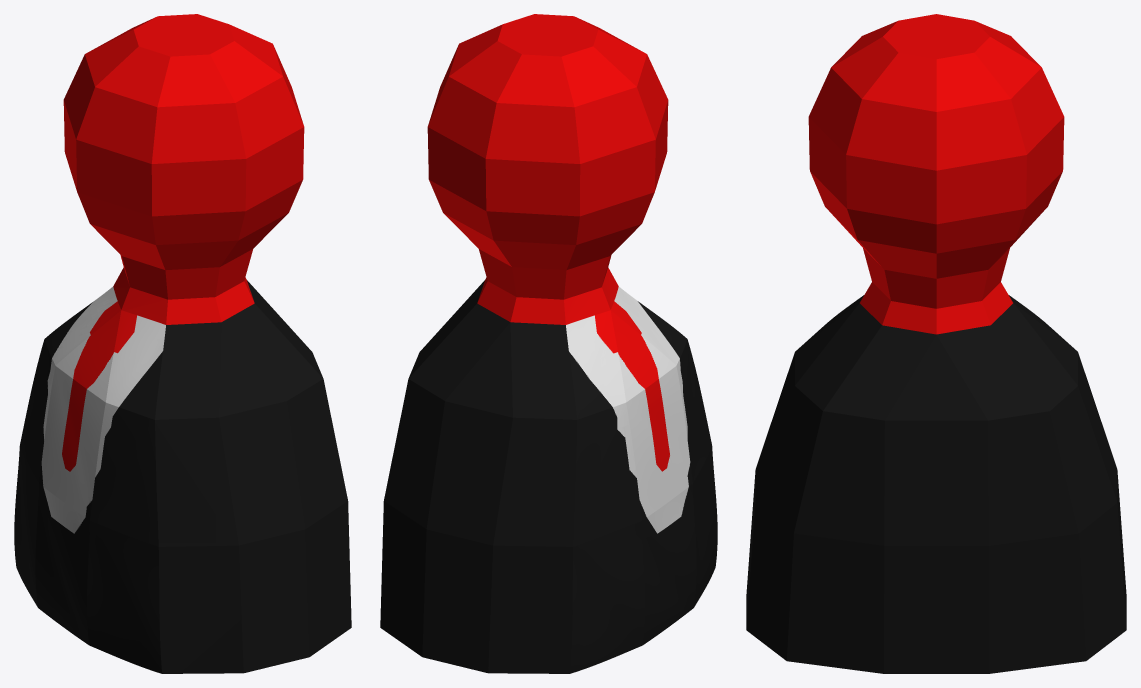
The model's file is rote_figur.fbx.
3 views of the same model, side by side, from view 1: azimuth 30°, elevation 25°; view 2: azimuth 150°, elevation 25°; view 3: azimuth 270°, elevation 25° (orthographic). The views are drawn at different scales.
Parts seen in each view (by area): view 1: pawn_D_red; view 2: pawn_D_red; view 3: pawn_D_red.
Part boxes in pixels (<box>): pawn_D_red: <box>14,14,351,673</box>; pawn_D_red: <box>380,14,717,673</box>; pawn_D_red: <box>746,14,1126,673</box>.
Bounding box in the file's own units: 41.89 × 92.32 × 55.1.
